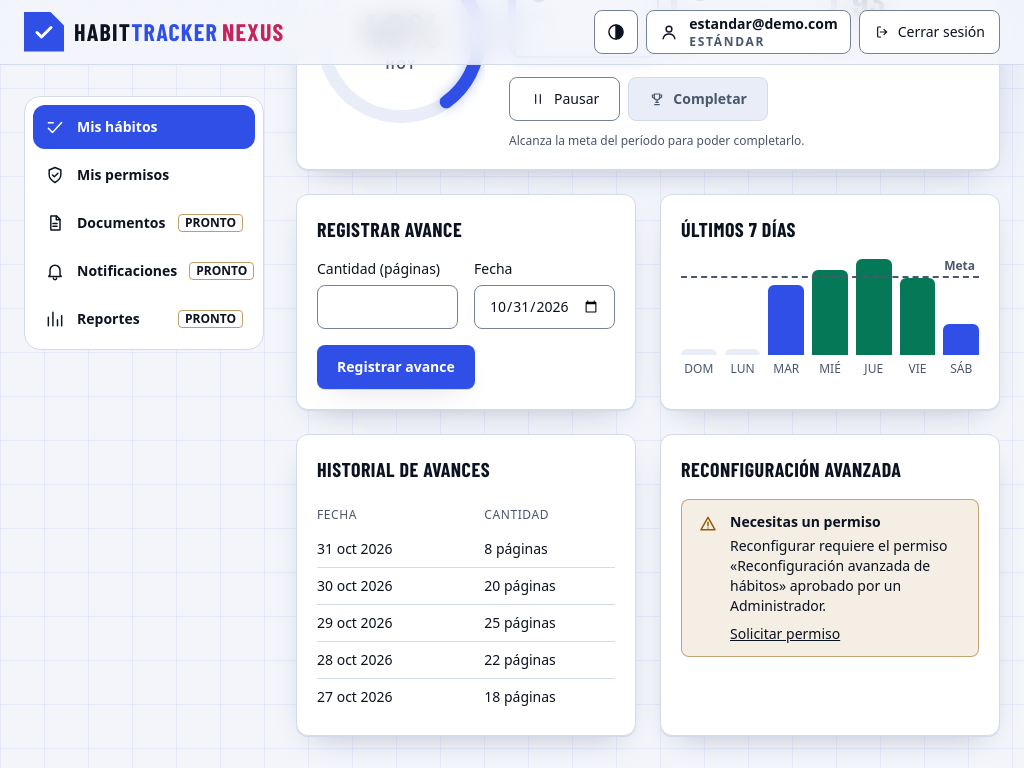
hábitos › sin el permiso aplicado, la reconfiguración pide solicitarlo
(page scrolled)
expect the text "Necesitas un permiso" is shown: met, box [730,512,881,531]
Click the link "Solicitar permiso".
click(785, 634)  # box [730,624,840,644]
(page scrolled)
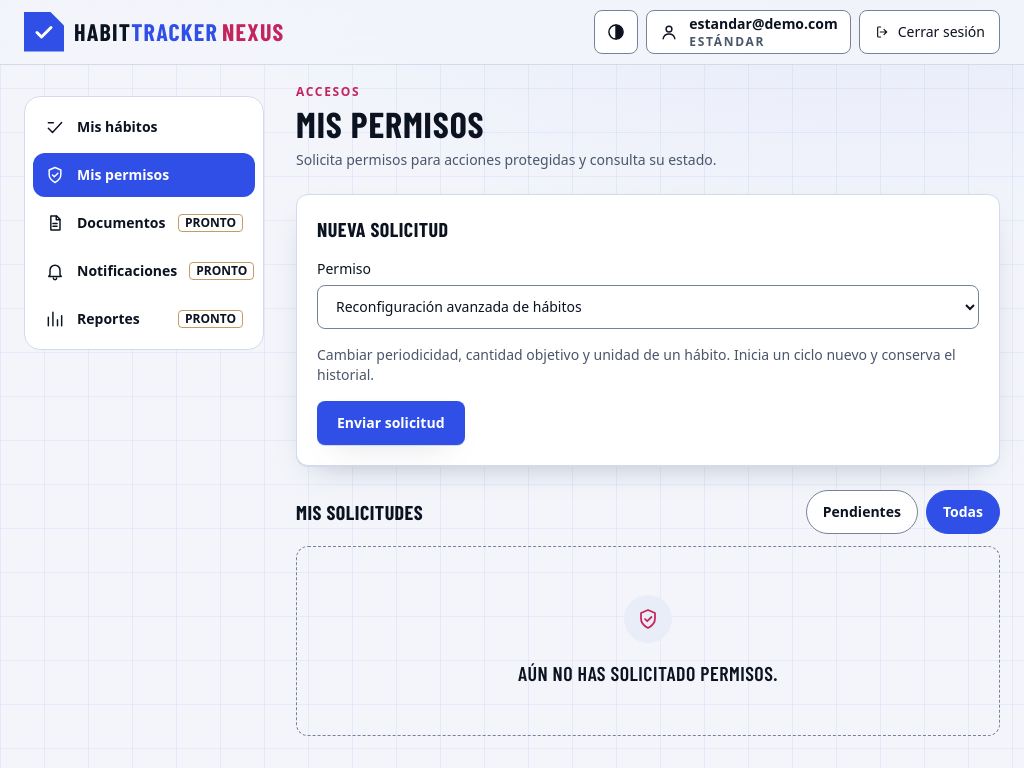
expect the dropdown labelled "Permiso" shows "Reconfiguración avanzada de hábitos": met, box [317,285,979,329]
